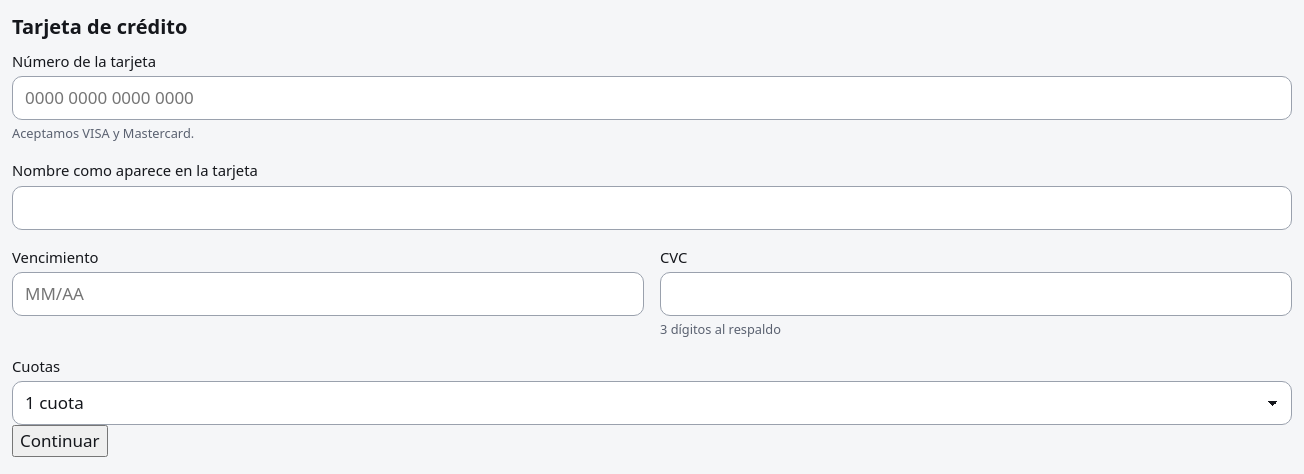
CardFields › should show the brand of 4242424242424242 while typing
This screenshot has width=1304, height=474.
Type "4242424242424242" into the field labelled "Número de la tarjeta" at (652, 98), box [12,76,1292,120]
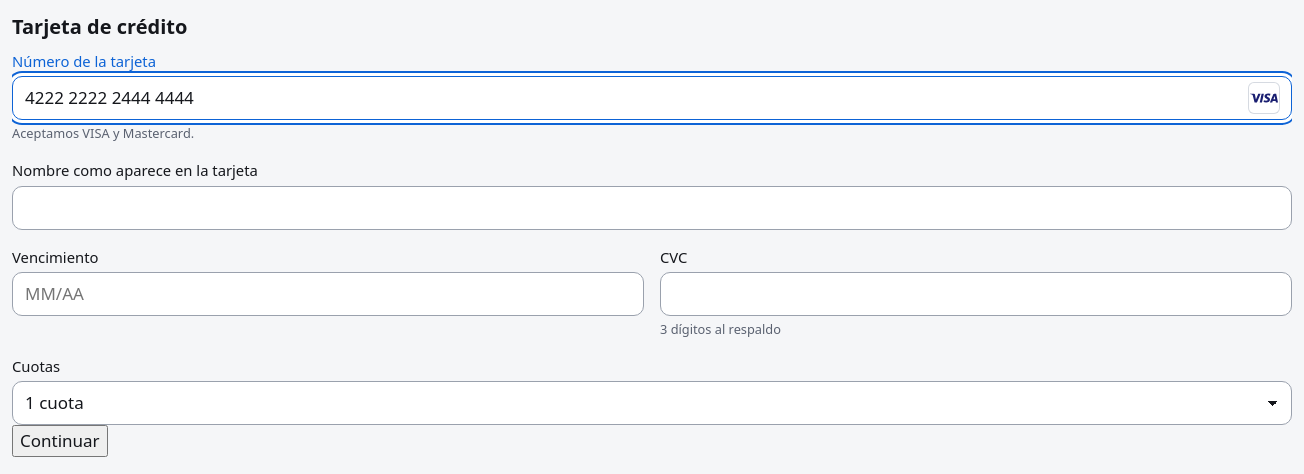
Expected: the picture named "Visa" is shown, [1248,82,1280,114]
